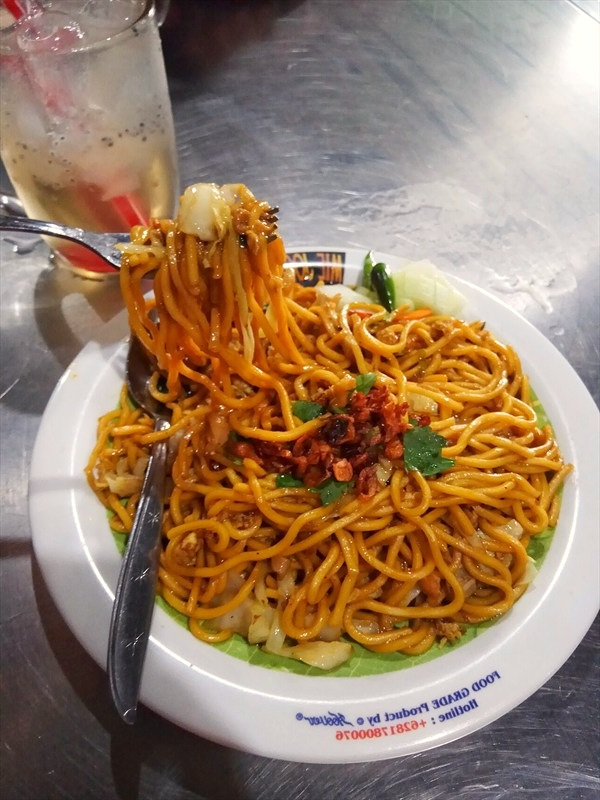Mie Goreng: (110, 219, 542, 648)
